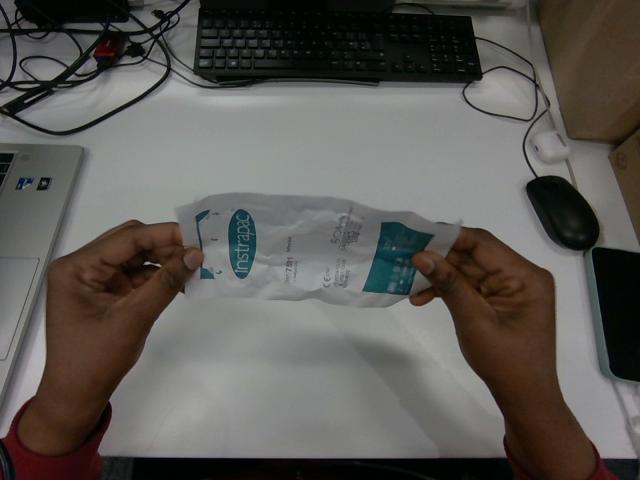gallipot: (176, 193, 459, 306)
